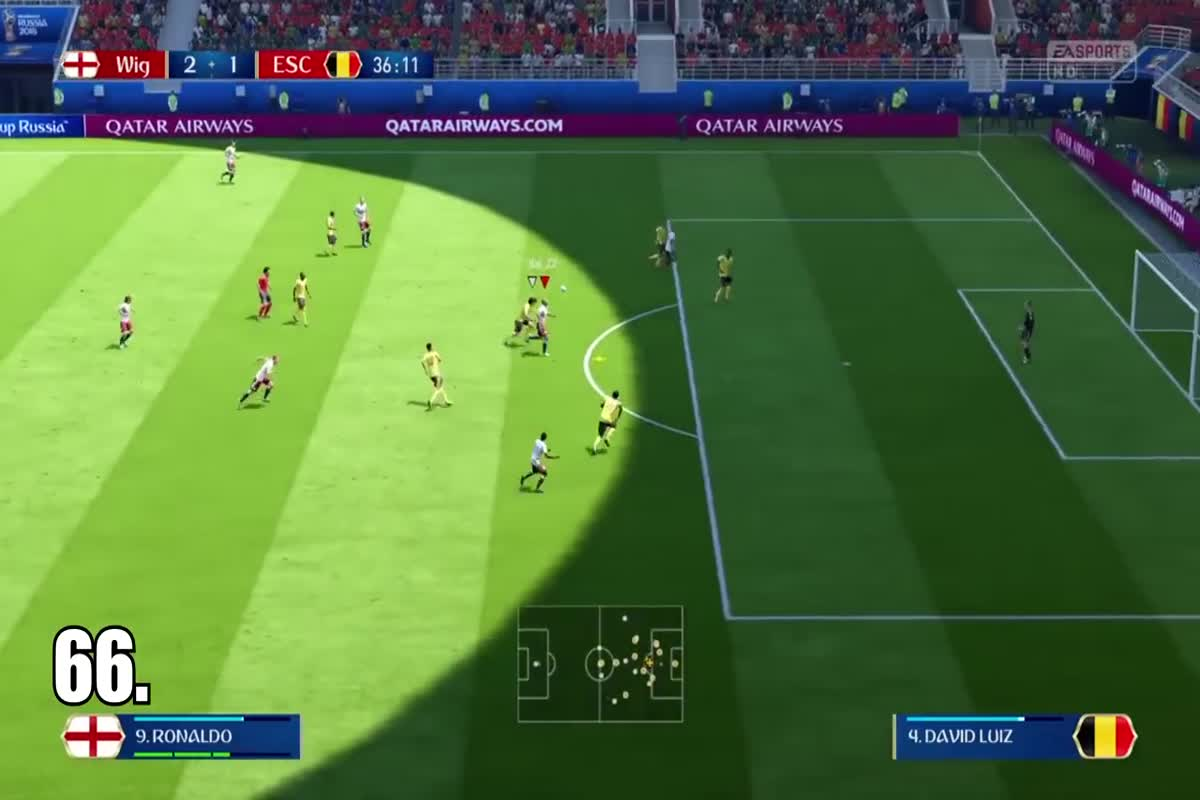ball: (557, 278, 577, 299)
